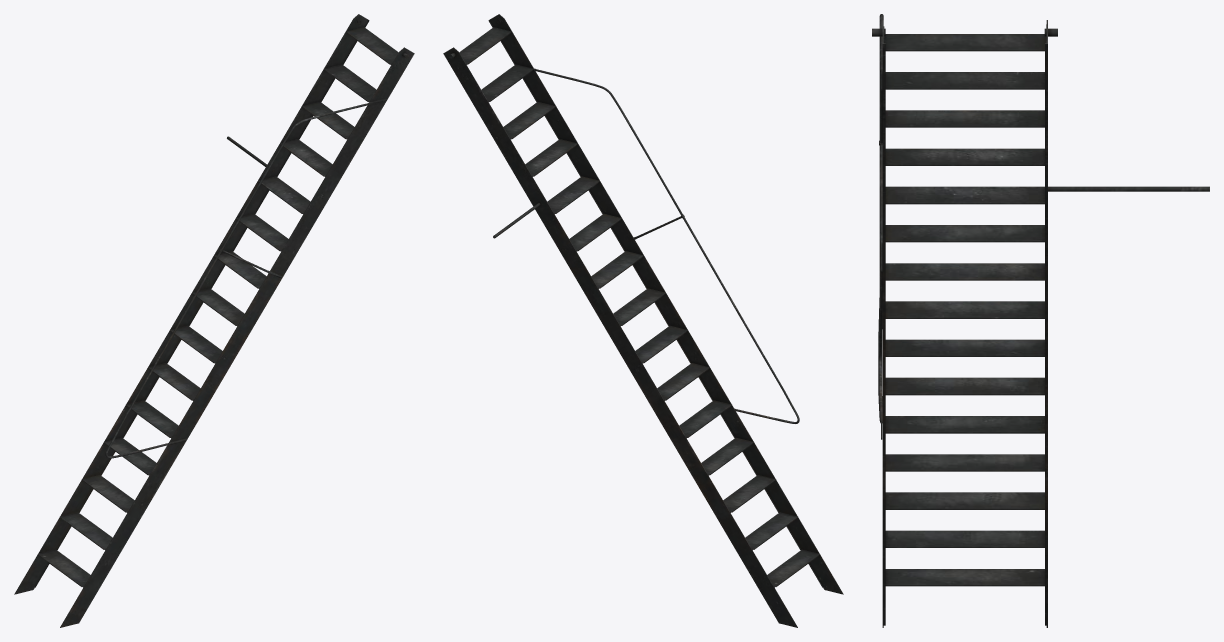
File: modular_fire_escape-stairs.glb
3 views of the same model, side by side, from view 1: azimuth 30°, elevation 25°; view 2: azimuth 150°, elevation 25°; view 3: azimuth 270°, elevation 25° (orthographic). The views are drawn at different scales.
Parts seen in each view (by area): view 1: modular_fire_escape_stairs; view 2: modular_fire_escape_stairs; view 3: modular_fire_escape_stairs.
Boxes of the visible parts, x1,y1,x2,y2 form: modular_fire_escape_stairs: (14, 14, 414, 627); modular_fire_escape_stairs: (443, 14, 843, 627); modular_fire_escape_stairs: (872, 14, 1209, 627).
Bounding box in the file's own units: 2.99 × 4.01 × 1.37.
1 material, 1 textured.
